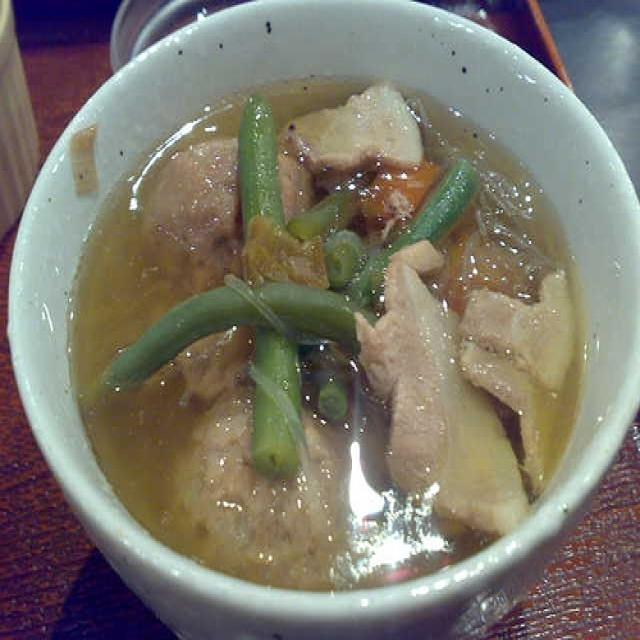汤锅炖物: (22, 12, 626, 604)
